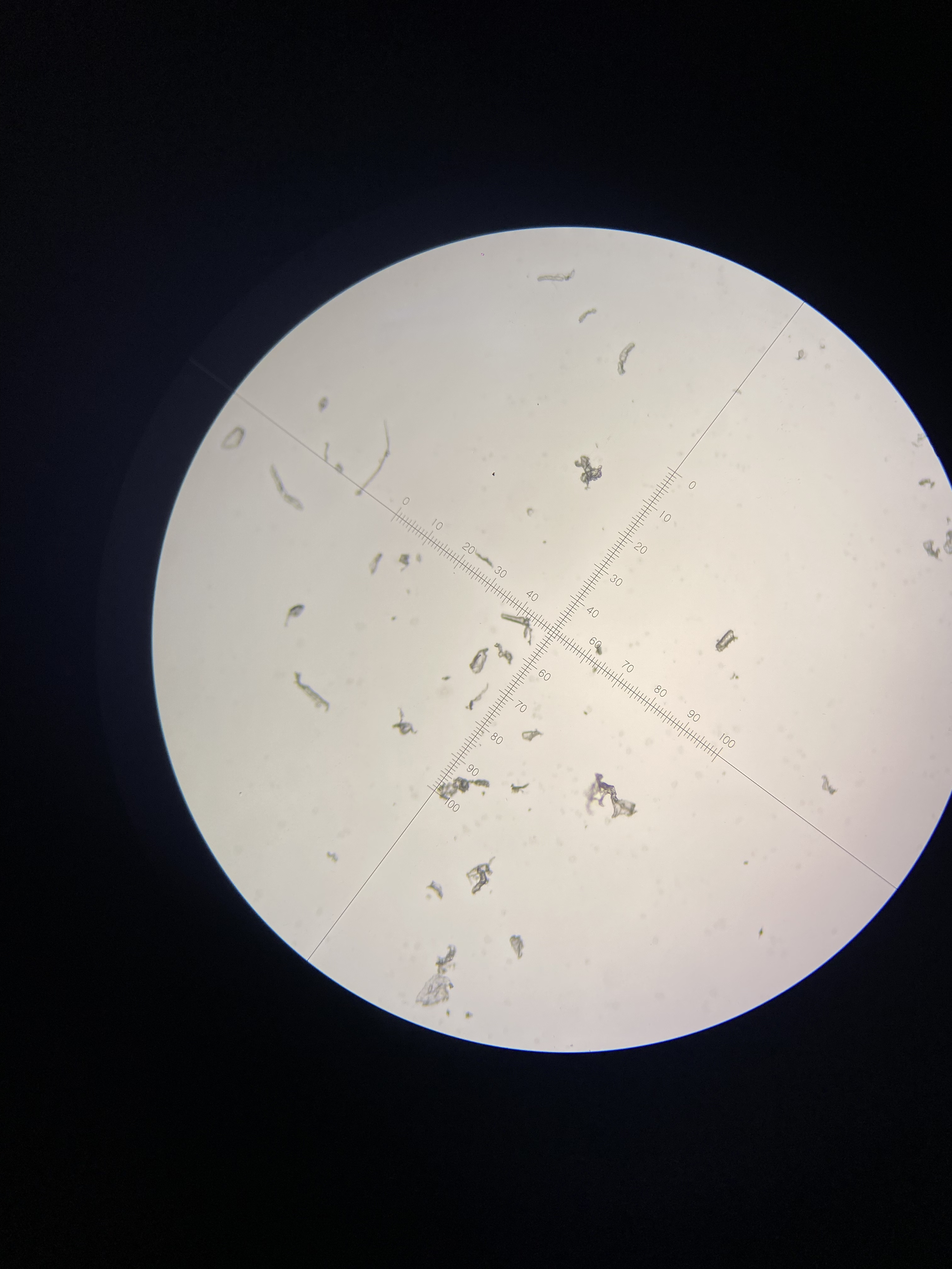microplastic: (354, 419, 395, 500), (413, 946, 460, 1007), (582, 773, 638, 821), (268, 463, 304, 512), (293, 670, 331, 714), (465, 855, 496, 895), (499, 611, 534, 646), (574, 455, 603, 490), (391, 706, 420, 736), (466, 682, 492, 715), (535, 268, 578, 285), (617, 342, 636, 376), (218, 427, 247, 449), (714, 628, 739, 653), (469, 648, 490, 675), (284, 604, 305, 629), (494, 643, 514, 667), (507, 934, 525, 960), (922, 539, 943, 561), (367, 551, 383, 576), (474, 550, 494, 569), (425, 880, 444, 900), (819, 775, 836, 796), (577, 308, 599, 324), (521, 729, 543, 742), (400, 552, 411, 574), (316, 395, 329, 413), (917, 477, 936, 488), (945, 528, 952, 554), (582, 703, 592, 717), (595, 645, 606, 657), (797, 350, 807, 363), (415, 553, 423, 567), (323, 441, 328, 461), (334, 464, 344, 473), (527, 507, 534, 518)
